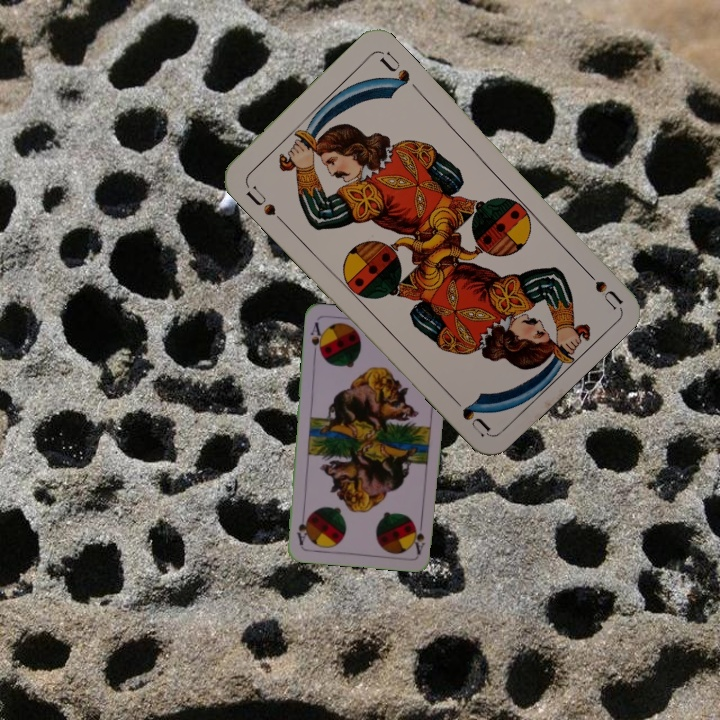SA: (307, 318, 326, 358), (410, 516, 427, 556)
SU: (576, 260, 624, 311), (241, 182, 287, 226)
